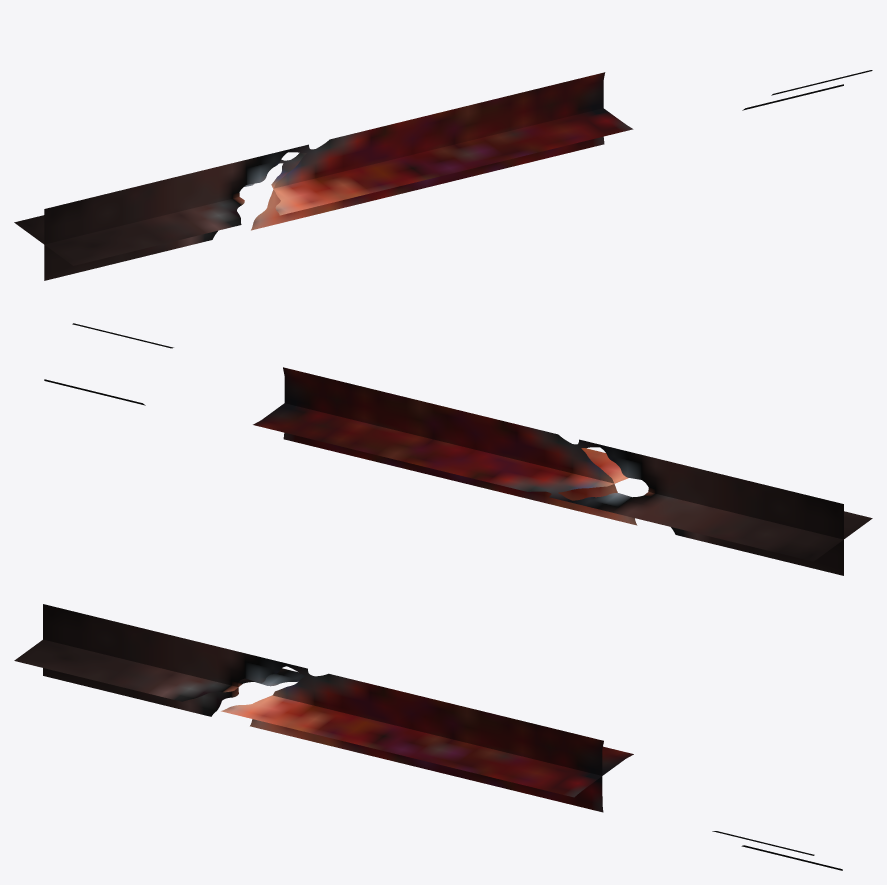
The picture shows the model from 3 angles, top to bottom: view 1: azimuth 30°, elevation 25°; view 2: azimuth 150°, elevation 25°; view 3: azimuth 330°, elevation 25°; orthographic projection.
Visible parts, largest first — view 1: mesh00; view 2: mesh00; view 3: mesh00.
Boxes of the visible parts, x1,y1,x2,y2 form: mesh00: (14, 70, 872, 280); mesh00: (44, 323, 872, 575); mesh00: (14, 604, 842, 870).
Size of the model in its own units: 133 by 11.39 by 17.06.
